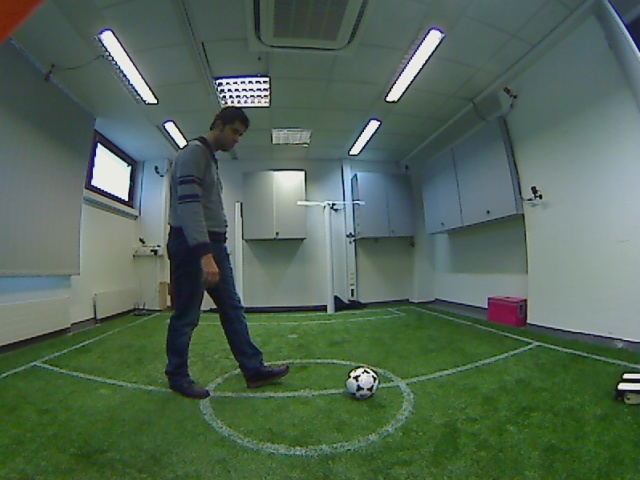ball: (340, 362, 385, 404)
